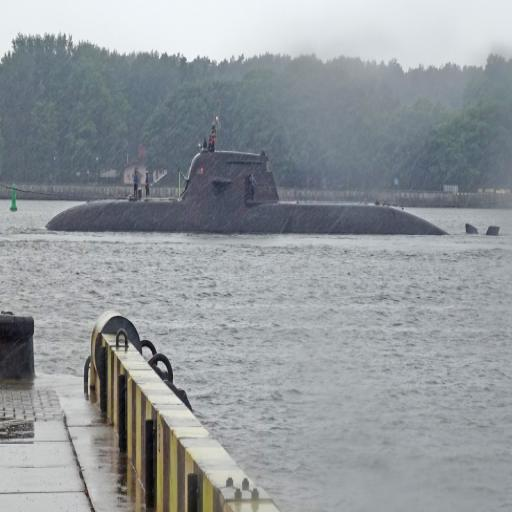submarine: (45, 151, 500, 237)
